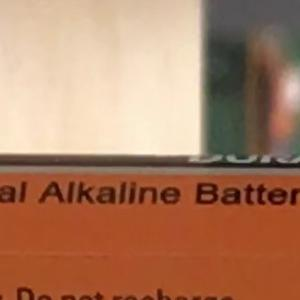keyword: (28, 171, 96, 214)
